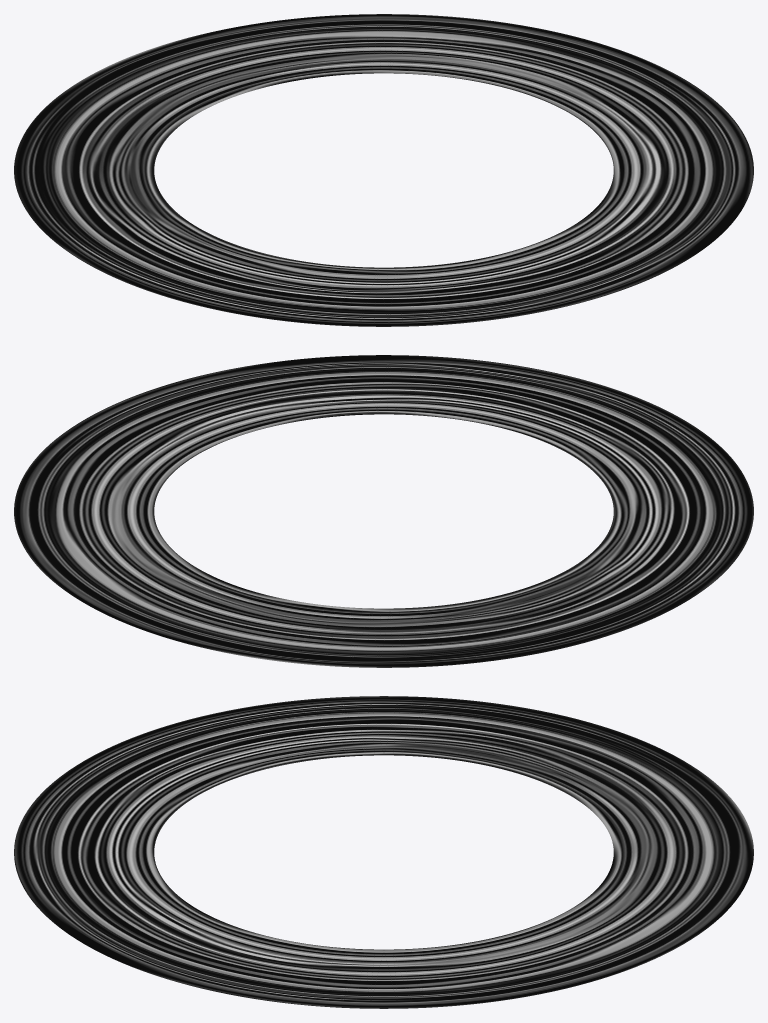
File: Prop_PlanetRings.obj
3 views of the same model, one above another, from view 1: azimuth 30°, elevation 25°; view 2: azimuth 150°, elevation 25°; view 3: azimuth 270°, elevation 25° (orthographic).
Parts seen in each view (by area): view 1: Prop_PlanetRings_Cylinder; view 2: Prop_PlanetRings_Cylinder; view 3: Prop_PlanetRings_Cylinder.
Boxes of the visible parts, box(x1,y1,x2,y2) form: Prop_PlanetRings_Cylinder: box(14, 14, 753, 326); Prop_PlanetRings_Cylinder: box(14, 355, 753, 667); Prop_PlanetRings_Cylinder: box(14, 696, 753, 1008).
Bounding box in the file's own units: 361 × 5.8e-05 × 361.
